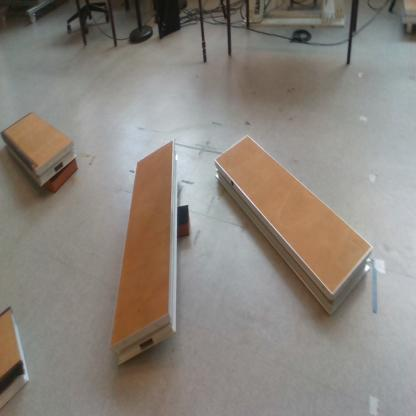Stairs: (214, 135, 372, 317), (112, 141, 179, 367), (2, 113, 77, 189), (1, 308, 31, 410)
